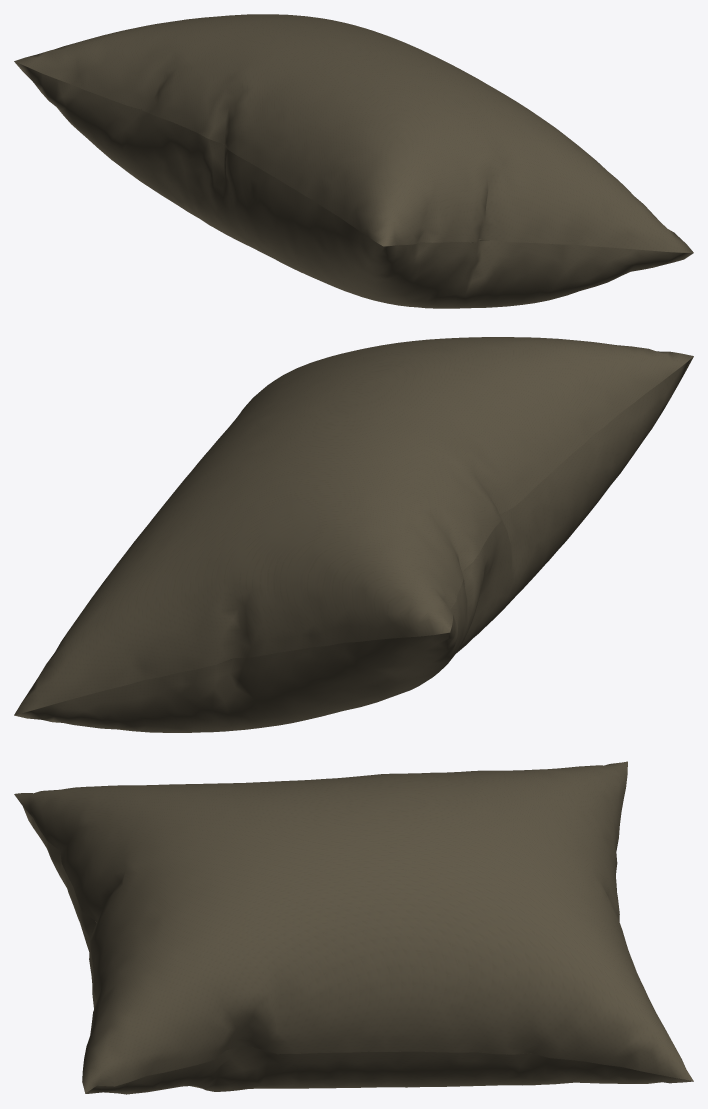
The model's file is SM_pillow.FBX.
3 renders of one model, top to bottom at view 1: azimuth 30°, elevation 25°; view 2: azimuth 150°, elevation 25°; view 3: azimuth 270°, elevation 25°, orthographic. The views are drawn at different scales.
Visible parts, largest first — view 1: SM_pillow; view 2: SM_pillow; view 3: SM_pillow.
Boxes of the visible parts, x1,y1,x2,y2 form: SM_pillow: (14,14,693,308); SM_pillow: (14,337,693,732); SM_pillow: (14,761,693,1094).
Size of what is drawn, in the model's own units: 184 by 241 by 95.36.
